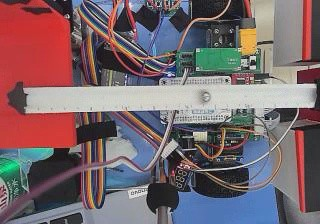ironball: (200, 91, 211, 102)
